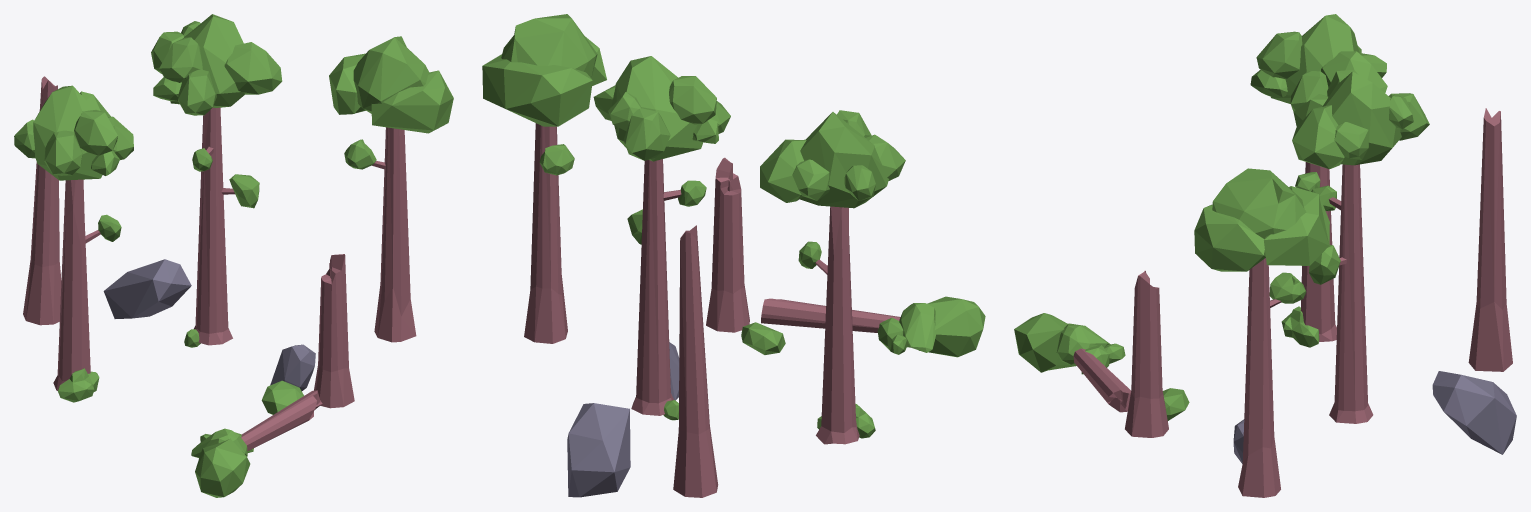
The model's file is Environtment_Jackalope.fbx.
The picture shows the model from 3 angles, left to right: view 1: azimuth 30°, elevation 25°; view 2: azimuth 150°, elevation 25°; view 3: azimuth 270°, elevation 25°; orthographic projection. The views are drawn at different scales.
Parts seen in each view (by area): view 1: Cube.388, Cube.391, Cube.389, Cube.390, Cube.392, Cube.398, Icosphere.031, Icosphere, Icosphere.014, Icosphere.003, Icosphere.029, Icosphere.007 (+18 smaller); view 2: Cube.390, Cube.388, Cube.389, Cube.391, Icosphere.032, Cube.398, Cube.392, Icosphere.014, Icosphere.031, Icosphere.003, Icosphere.029, Cube.393 (+11 smaller); view 3: Cube.390, Cube.388, Cube.391, Cube.392, Cube.398, Icosphere.031, Icosphere.003, Icosphere, Icosphere.032, Icosphere.014, Cube.389, Icosphere.007 (+14 smaller).
Boxes of the visible parts, x1,y1,x2,y2 form: Cube.388: (194,107,232,345); Cube.391: (374,127,416,342); Cube.389: (53,179,90,390); Cube.390: (23,76,61,325); Cube.392: (314,254,354,408); Cube.398: (103,259,191,318); Icosphere.031: (353,36,429,113); Icosphere: (371,70,453,133); Icosphere.014: (33,85,102,180); Icosphere.003: (170,14,244,107); Icosphere.029: (195,438,250,497); Icosphere.007: (224,42,282,94); Cube.390: (673,225,718,497); Cube.388: (631,159,673,415); Cube.389: (816,206,859,444); Cube.391: (524,123,567,343); Icosphere.032: (482,54,592,126); Cube.398: (567,403,630,497); Cube.392: (706,157,749,332); Icosphere.014: (800,112,888,208); Icosphere.031: (501,14,597,78); Icosphere.003: (611,56,703,161); Icosphere.029: (919,296,985,357); Cube.393: (761,298,900,332); Cube.390: (1468,108,1512,371); Cube.388: (1329,164,1373,423); Cube.391: (1238,258,1280,497); Cube.392: (1125,270,1168,437); Cube.398: (1432,371,1516,454); Icosphere.031: (1212,168,1306,238); Icosphere.003: (1322,71,1401,165); Icosphere: (1194,204,1265,271); Icosphere.032: (1263,186,1329,265); Icosphere.014: (1271,14,1359,103); Cube.389: (1300,162,1336,341); Icosphere.007: (1292,105,1344,169).
Size of the model in its own units: 4185 by 3702 by 4436.
